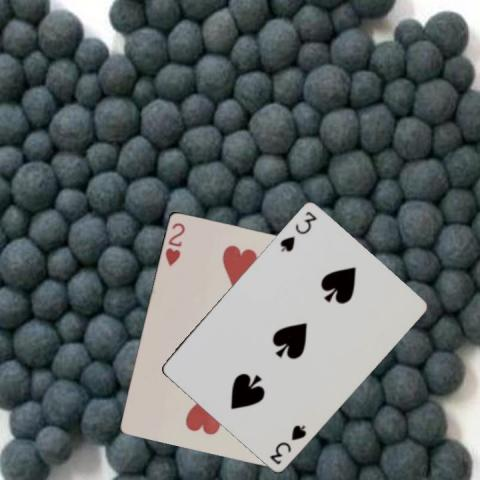2h: (162, 219, 186, 267)
3s: (277, 207, 318, 253), (267, 422, 308, 466)
